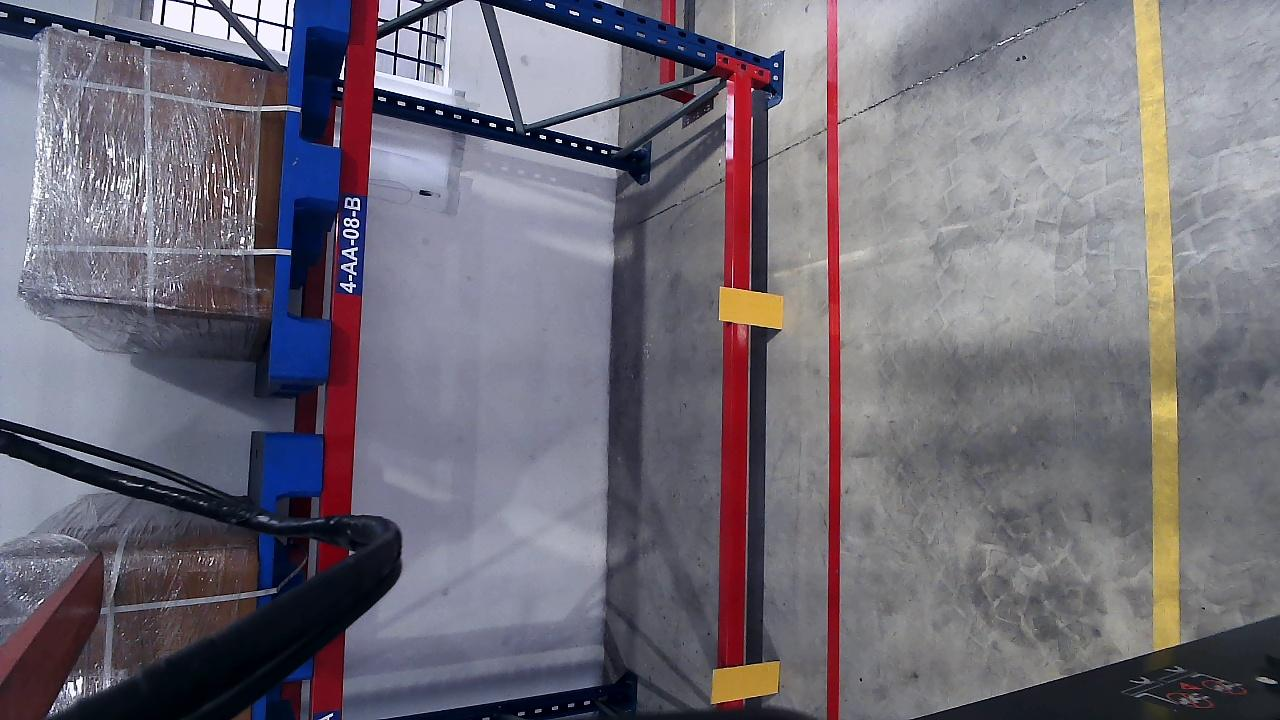h_rack: (312, 0, 382, 720), (725, 75, 758, 720)
orange_strip: (711, 660, 780, 702), (719, 285, 784, 328)
red_line: (822, 0, 844, 720)
small_pallet: (269, 0, 351, 382)
yellow_line: (1135, 0, 1181, 645)
